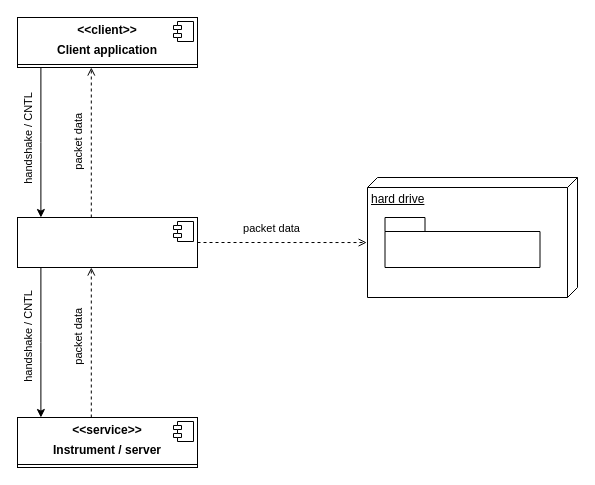
This 595x485 diagram has some shape labels left out. The shapes that lost their labels are listed below. From the top down, each one's centre as x and y in pixels, then its label:
At point 107,242: "<<proxy>> ADARA-player: record".
At point 462,242: "/<base-dir>/<session#>".
